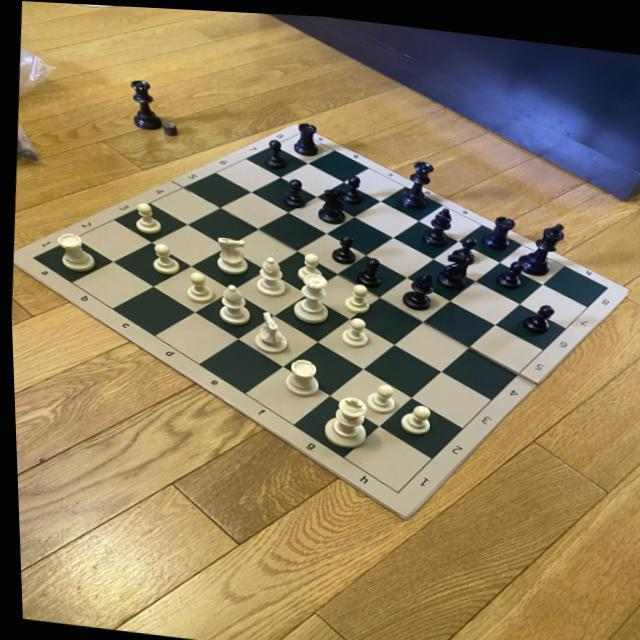chess-table-corners: (24, 253, 36, 263), (599, 275, 611, 285), (390, 484, 401, 494)
